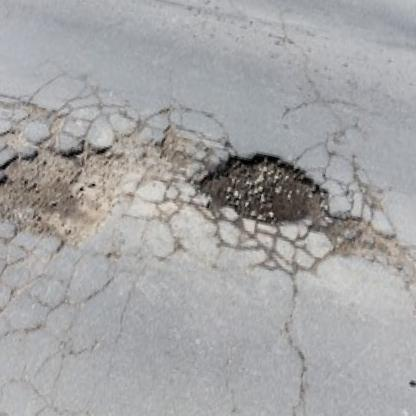pothole: (0, 122, 130, 263), (190, 138, 333, 245), (151, 126, 196, 176)
